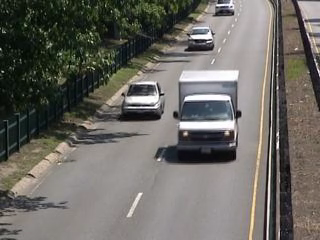car: (120, 80, 166, 118), (185, 26, 216, 53), (214, 1, 238, 18)
truck: (171, 68, 238, 163)
